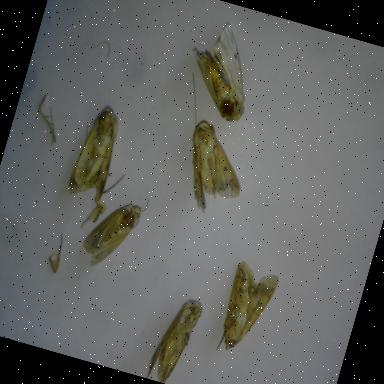abw: (171, 12, 272, 132), (169, 116, 259, 226), (57, 96, 136, 210), (210, 257, 284, 366), (74, 190, 148, 281), (143, 288, 211, 384)
